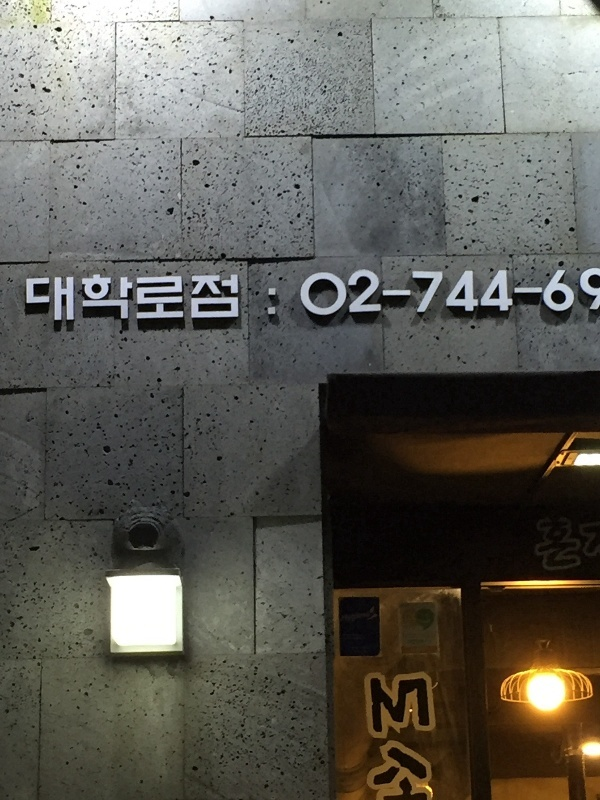text: (417, 678, 433, 800), (369, 678, 384, 800), (385, 678, 400, 800), (401, 678, 416, 800), (545, 510, 560, 573), (561, 510, 576, 573), (577, 510, 592, 573), (33, 274, 48, 327), (49, 274, 64, 327), (65, 274, 80, 327), (81, 274, 96, 327), (97, 274, 112, 327), (113, 274, 128, 327), (129, 274, 144, 327), (145, 274, 160, 327), (161, 274, 176, 327), (177, 274, 192, 327), (193, 274, 208, 327), (209, 274, 224, 327), (225, 274, 240, 327), (241, 274, 256, 327), (257, 274, 272, 327), (305, 266, 320, 319), (321, 266, 336, 319), (337, 266, 352, 319), (353, 266, 368, 319), (369, 266, 384, 319), (385, 266, 400, 319), (401, 266, 416, 319), (417, 266, 432, 319), (433, 266, 448, 319), (449, 266, 464, 319), (465, 266, 480, 319), (481, 266, 496, 319), (497, 266, 512, 319), (513, 266, 528, 319), (529, 266, 544, 319), (545, 266, 560, 319), (561, 266, 576, 319), (577, 266, 592, 319), (535, 510, 544, 573), (593, 510, 600, 573), (25, 274, 32, 327), (593, 266, 600, 319), (353, 606, 368, 629), (273, 274, 279, 327), (298, 266, 304, 319), (340, 606, 352, 629), (369, 606, 380, 629), (366, 678, 368, 800), (353, 632, 369, 642), (353, 645, 369, 655), (341, 632, 352, 642), (406, 638, 416, 646), (417, 638, 424, 646)
